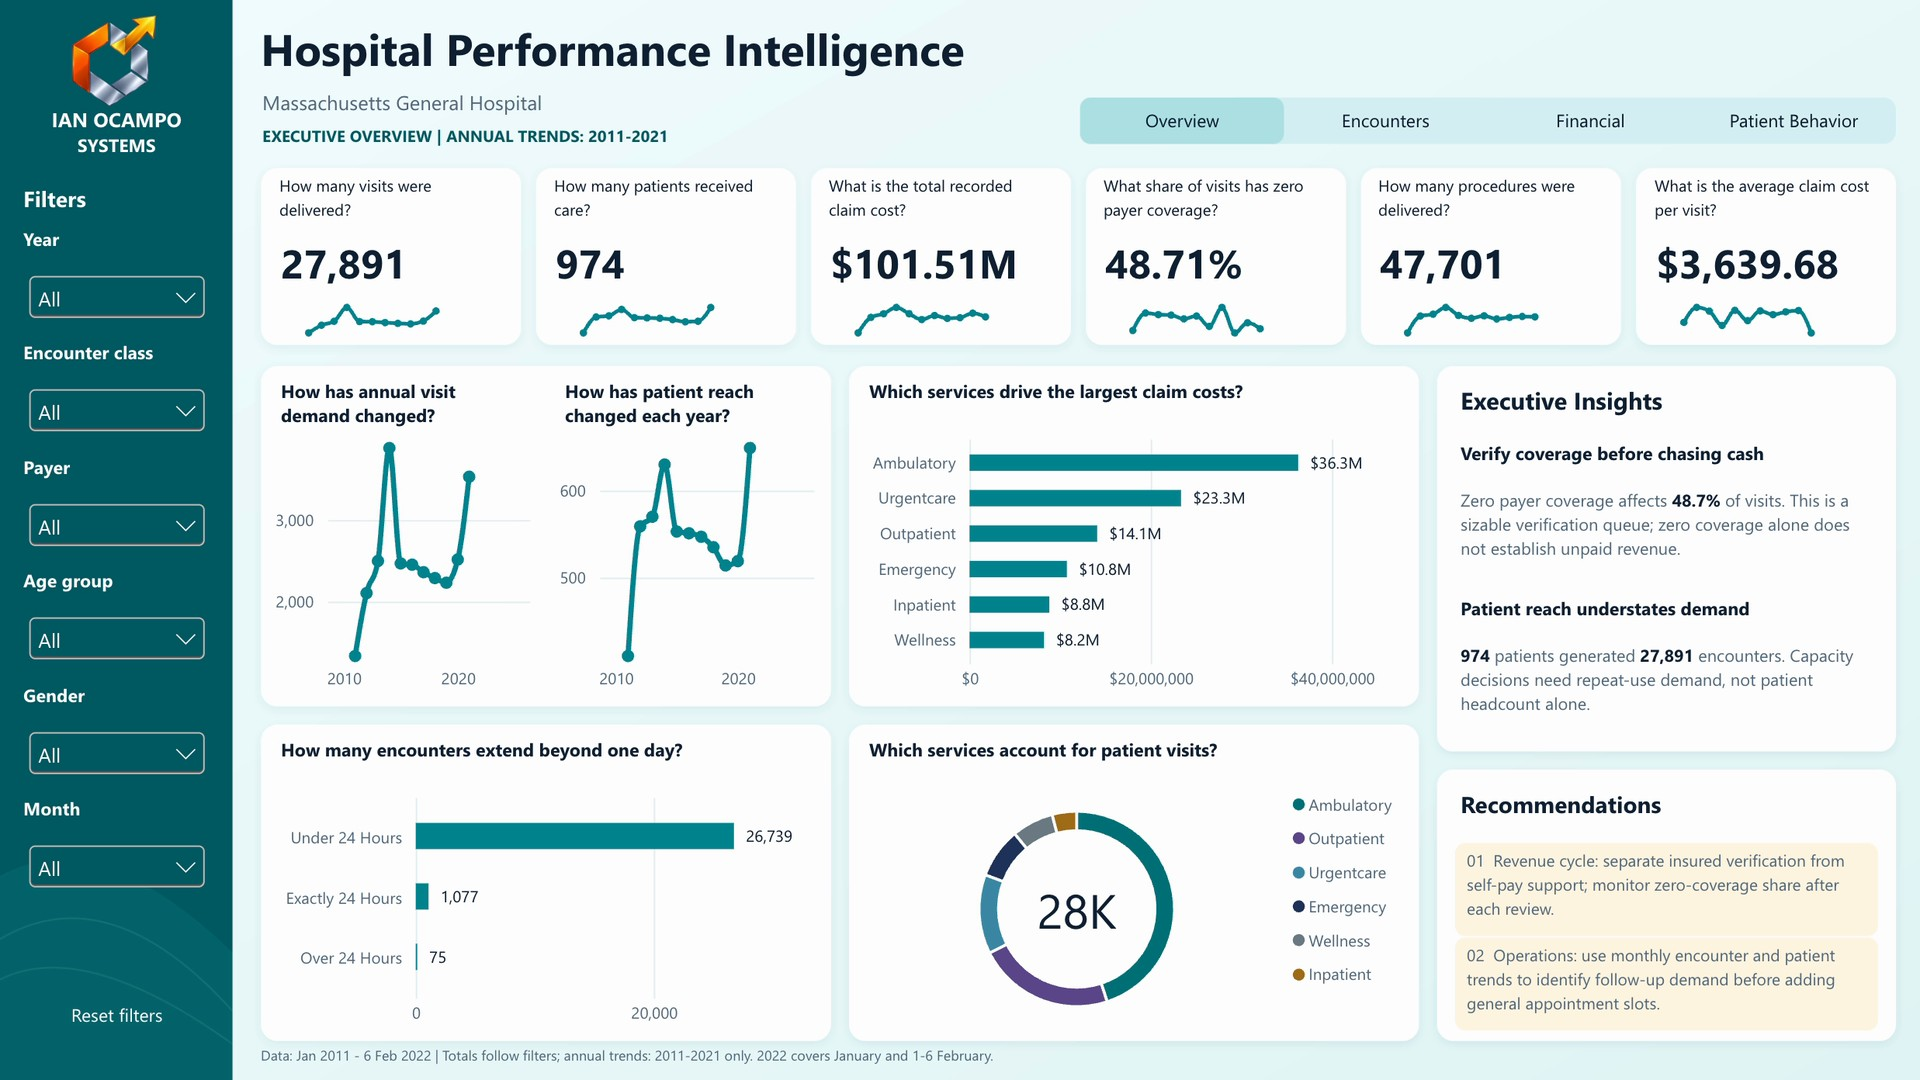

This screenshot's page, from the dashboard's own definition file:
{"tool":"powerbi","page":{"name":"Executive Overview","canvas":[1280,720],"ordinal":0},"visuals":[{"type":"textbox","box":[174,12,1086,53],"z":4},{"type":"textbox","box":[175,59,510,31],"z":5},{"type":"textbox","box":[175,82,510,28],"z":6},{"type":"actionButton","box":[720,65,136,31],"z":7},{"type":"actionButton","box":[856,65,136,31],"z":8},{"type":"actionButton","box":[992,65,136,31],"z":9},{"type":"actionButton","box":[1128,65,136,31],"z":10},{"type":"textbox","box":[16,122,125,33],"z":11},{"type":"textbox","box":[16,151,126,30],"z":12},{"type":"slicer","fields":{"Values":["DimDate.Year"]},"box":[14,179,127,49],"z":13},{"type":"textbox","box":[16,227,126,30],"z":14},{"type":"slicer","fields":{"Values":["encounters.EncounterClass"]},"box":[14,255,127,49],"z":15},{"type":"textbox","box":[16,303,126,30],"z":16},{"type":"slicer","fields":{"Values":["payers.Name"]},"box":[14,331,127,49],"z":17},{"type":"textbox","box":[16,379,126,30],"z":18},{"type":"slicer","fields":{"Values":["encounters.PatientAgeGroup"]},"box":[14,407,127,49],"z":19},{"type":"textbox","box":[16,455,126,30],"z":20},{"type":"slicer","fields":{"Values":["patients.Gender"]},"box":[14,483,127,49],"z":21},{"type":"textbox","box":[16,531,126,30],"z":22},{"type":"slicer","fields":{"Values":["DimDate.Month"]},"box":[14,559,127,49],"z":23},{"type":"actionButton","box":[14,661,127,32],"z":24},{"type":"textbox","box":[174,694,1090,26],"z":25},{"type":"textbox","box":[186,115,149.3,43],"z":26},{"type":"cardVisual","fields":{"Data":["encounters.Total Encounters"]},"box":[187,157,147.3,34],"z":27},{"type":"lineChart","fields":{"Category":["DimDate.Year"],"Y":["encounters.Total Encounters"]},"box":[187,194,147.3,32],"z":28},{"type":"textbox","box":[369.3,115,149.3,43],"z":29},{"type":"cardVisual","fields":{"Data":["encounters.Unique Patients"]},"box":[370.3,157,147.3,34],"z":30},{"type":"lineChart","fields":{"Category":["DimDate.Year"],"Y":["encounters.Unique Patients"]},"box":[370.3,194,147.3,32],"z":31},{"type":"textbox","box":[552.7,115,149.3,43],"z":32},{"type":"cardVisual","fields":{"Data":["encounters.Total Claim Cost"]},"box":[553.7,157,147.3,34],"z":33},{"type":"lineChart","fields":{"Category":["DimDate.Year"],"Y":["encounters.Total Claim Cost"]},"box":[553.7,194,147.3,32],"z":34},{"type":"textbox","box":[736,115,149.3,43],"z":35},{"type":"cardVisual","fields":{"Data":["encounters.Zero Coverage %"]},"box":[737,157,147.3,34],"z":36},{"type":"lineChart","fields":{"Category":["DimDate.Year"],"Y":["encounters.Zero Coverage %"]},"box":[737,194,147.3,32],"z":37},{"type":"textbox","box":[919.3,115,149.3,43],"z":38},{"type":"cardVisual","fields":{"Data":["encounters.Total Procedures"]},"box":[920.3,157,147.3,34],"z":39},{"type":"lineChart","fields":{"Category":["DimDate.Year"],"Y":["encounters.Total Procedures"]},"box":[920.3,194,147.3,32],"z":40},{"type":"textbox","box":[1102.7,115,149.3,43],"z":41},{"type":"cardVisual","fields":{"Data":["encounters.Average Claim Cost"]},"box":[1103.7,157,147.3,34],"z":42},{"type":"lineChart","fields":{"Category":["DimDate.Year"],"Y":["encounters.Average Claim Cost"]},"box":[1103.7,194,147.3,32],"z":43},{"type":"textbox","box":[187,252,164,42],"z":44},{"type":"lineChart","fields":{"Category":["DimDate.Year"],"Y":["encounters.Total Encounters"]},"box":[183,286,172,179],"z":45},{"type":"textbox","box":[377,252,166,42],"z":46},{"type":"lineChart","fields":{"Category":["DimDate.Year"],"Y":["encounters.Unique Patients"]},"box":[373,286,172,179],"z":47},{"type":"textbox","box":[579,252,354,42],"z":48},{"type":"clusteredBarChart","fields":{"Category":["encounters.EncounterClass"],"Y":["encounters.Total Claim Cost"]},"box":[575,286,362,179],"z":49},{"type":"textbox","box":[187,491,354,42],"z":50},{"type":"clusteredBarChart","fields":{"Category":["encounters.DurationCategory"],"Y":["encounters.Total Encounters"]},"box":[183,525,362,163],"z":51},{"type":"textbox","box":[579,491,354,42],"z":52},{"type":"donutChart","fields":{"Category":["encounters.EncounterClass"],"Y":["encounters.Total Encounters"]},"box":[575,525,362,163],"z":53},{"type":"textbox","box":[974,256,274,35],"z":54},{"type":"textbox","box":[974,294,274,32],"z":55},{"type":"textbox","box":[974,325,274,71],"z":56},{"type":"textbox","box":[974,397,274,32],"z":57},{"type":"textbox","box":[974,428,274,71],"z":58},{"type":"textbox","box":[974,526,274,34],"z":59},{"type":"textbox","box":[978,565,270,57],"z":60},{"type":"textbox","box":[978,628,270,57],"z":61},{"type":"image","box":[41.5,8,66,66],"z":1000},{"type":"textbox","box":[8,70,139,43],"z":1001}]}

Visuals, with their boxes in screenshot pixels (x1, y1, x2, y2), scaled from the page's 1280x720 canvas onto the 1920x1080 screenshot:
textbox: Rect(261, 18, 1890, 98)
textbox: Rect(262, 88, 1028, 135)
textbox: Rect(262, 123, 1028, 165)
actionButton: Rect(1080, 98, 1284, 144)
actionButton: Rect(1284, 98, 1488, 144)
actionButton: Rect(1488, 98, 1692, 144)
actionButton: Rect(1692, 98, 1896, 144)
textbox: Rect(24, 183, 212, 232)
textbox: Rect(24, 226, 213, 272)
slicer - DimDate.Year: Rect(21, 268, 212, 342)
textbox: Rect(24, 340, 213, 386)
slicer - encounters.EncounterClass: Rect(21, 382, 212, 456)
textbox: Rect(24, 454, 213, 500)
slicer - payers.Name: Rect(21, 496, 212, 570)
textbox: Rect(24, 568, 213, 614)
slicer - encounters.PatientAgeGroup: Rect(21, 610, 212, 684)
textbox: Rect(24, 682, 213, 728)
slicer - patients.Gender: Rect(21, 724, 212, 798)
textbox: Rect(24, 796, 213, 842)
slicer - DimDate.Month: Rect(21, 838, 212, 912)
actionButton: Rect(21, 992, 212, 1040)
textbox: Rect(261, 1041, 1896, 1079)
textbox: Rect(279, 172, 503, 237)
cardVisual - encounters.Total Encounters: Rect(280, 236, 501, 286)
lineChart - DimDate.Year x encounters.Total Encounters: Rect(280, 291, 501, 339)
textbox: Rect(554, 172, 778, 237)
cardVisual - encounters.Unique Patients: Rect(555, 236, 776, 286)
lineChart - DimDate.Year x encounters.Unique Patients: Rect(555, 291, 776, 339)
textbox: Rect(829, 172, 1053, 237)
cardVisual - encounters.Total Claim Cost: Rect(831, 236, 1052, 286)
lineChart - DimDate.Year x encounters.Total Claim Cost: Rect(831, 291, 1052, 339)
textbox: Rect(1104, 172, 1328, 237)
cardVisual - encounters.Zero Coverage %: Rect(1106, 236, 1326, 286)
lineChart - DimDate.Year x encounters.Zero Coverage %: Rect(1106, 291, 1326, 339)
textbox: Rect(1379, 172, 1603, 237)
cardVisual - encounters.Total Procedures: Rect(1380, 236, 1601, 286)
lineChart - DimDate.Year x encounters.Total Procedures: Rect(1380, 291, 1601, 339)
textbox: Rect(1654, 172, 1878, 237)
cardVisual - encounters.Average Claim Cost: Rect(1656, 236, 1876, 286)
lineChart - DimDate.Year x encounters.Average Claim Cost: Rect(1656, 291, 1876, 339)
textbox: Rect(280, 378, 526, 441)
lineChart - DimDate.Year x encounters.Total Encounters: Rect(274, 429, 532, 698)
textbox: Rect(566, 378, 814, 441)
lineChart - DimDate.Year x encounters.Unique Patients: Rect(560, 429, 818, 698)
textbox: Rect(868, 378, 1400, 441)
clusteredBarChart - encounters.EncounterClass x encounters.Total Claim Cost: Rect(862, 429, 1406, 698)
textbox: Rect(280, 736, 812, 800)
clusteredBarChart - encounters.DurationCategory x encounters.Total Encounters: Rect(274, 788, 818, 1032)
textbox: Rect(868, 736, 1400, 800)
donutChart - encounters.EncounterClass x encounters.Total Encounters: Rect(862, 788, 1406, 1032)
textbox: Rect(1461, 384, 1872, 436)
textbox: Rect(1461, 441, 1872, 489)
textbox: Rect(1461, 488, 1872, 594)
textbox: Rect(1461, 596, 1872, 644)
textbox: Rect(1461, 642, 1872, 748)
textbox: Rect(1461, 789, 1872, 840)
textbox: Rect(1467, 848, 1872, 933)
textbox: Rect(1467, 942, 1872, 1028)
image: Rect(62, 12, 161, 111)
textbox: Rect(12, 105, 220, 170)
